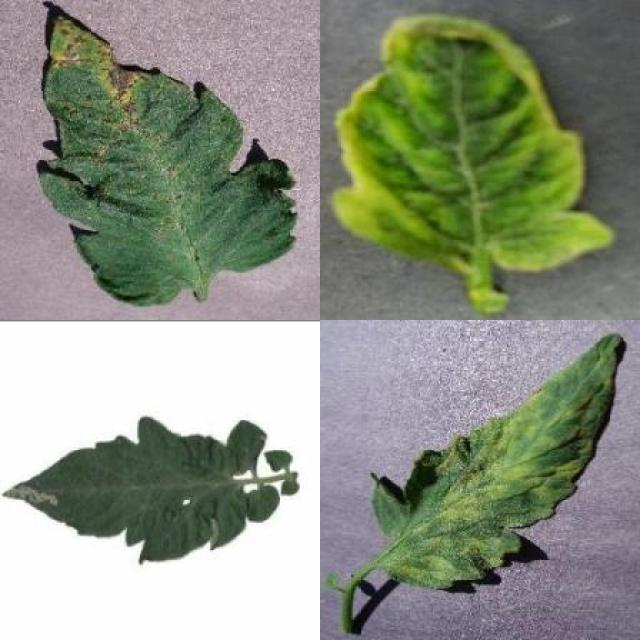Leaf Miner: (1, 411, 250, 564)
Leaf Mold: (373, 334, 620, 592)
Septoria: (36, 10, 300, 307)
Yellow Leaf Curl Virus: (332, 13, 618, 270)
